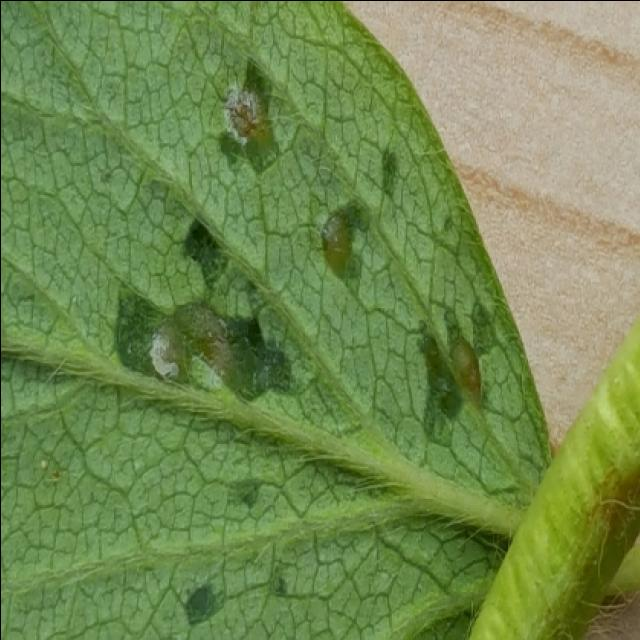Angular Leafspot: (85, 52, 524, 637)
